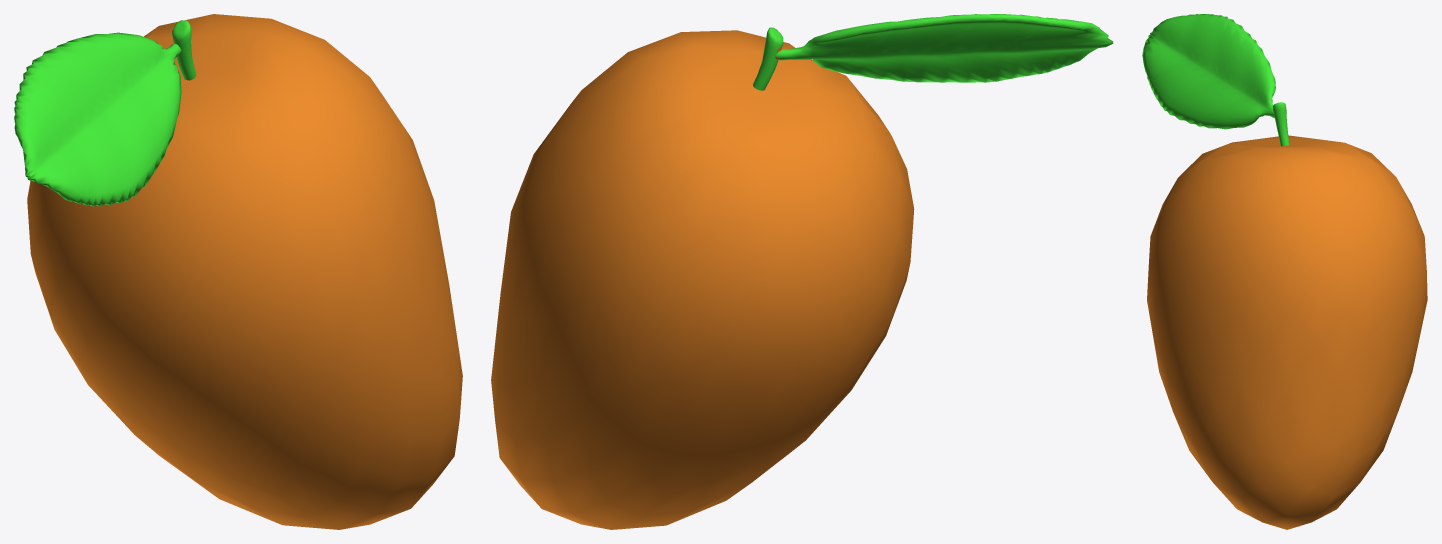
3 views of the same model, side by side, from view 1: azimuth 30°, elevation 25°; view 2: azimuth 150°, elevation 25°; view 3: azimuth 270°, elevation 25° (orthographic). The views are drawn at different scales.
Parts seen in each view (by area): view 1: mango; view 2: mango; view 3: mango.
Part boxes in pixels (<box>): mango: <box>14,14,462,529</box>; mango: <box>491,14,1113,529</box>; mango: <box>1142,14,1427,529</box>.
Bounding box in the file's own units: 587 × 615 × 415.
